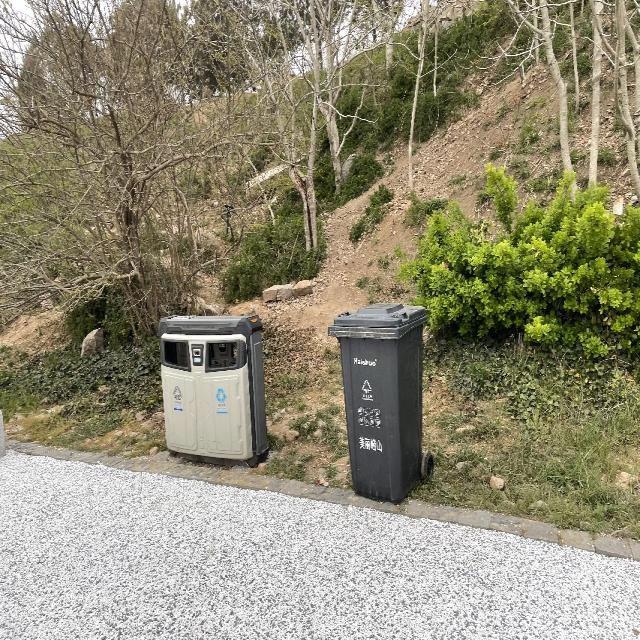garbage_bin: (327, 302, 429, 503), (157, 314, 268, 464)
